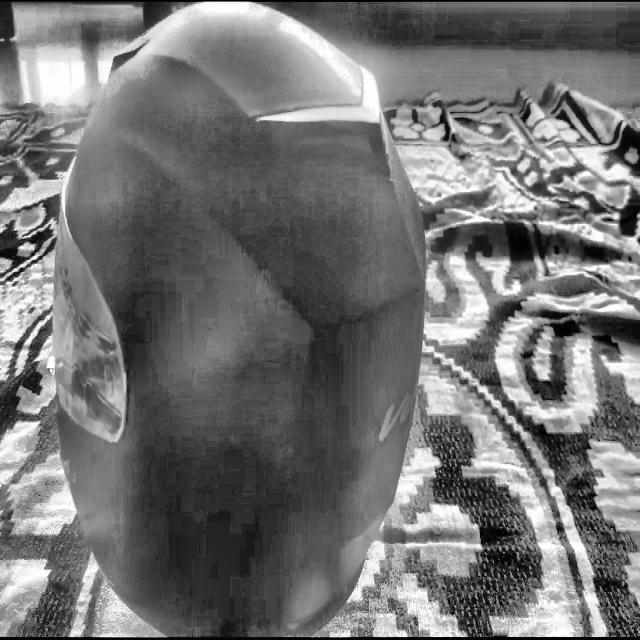Helmet: (58, 0, 435, 640)
